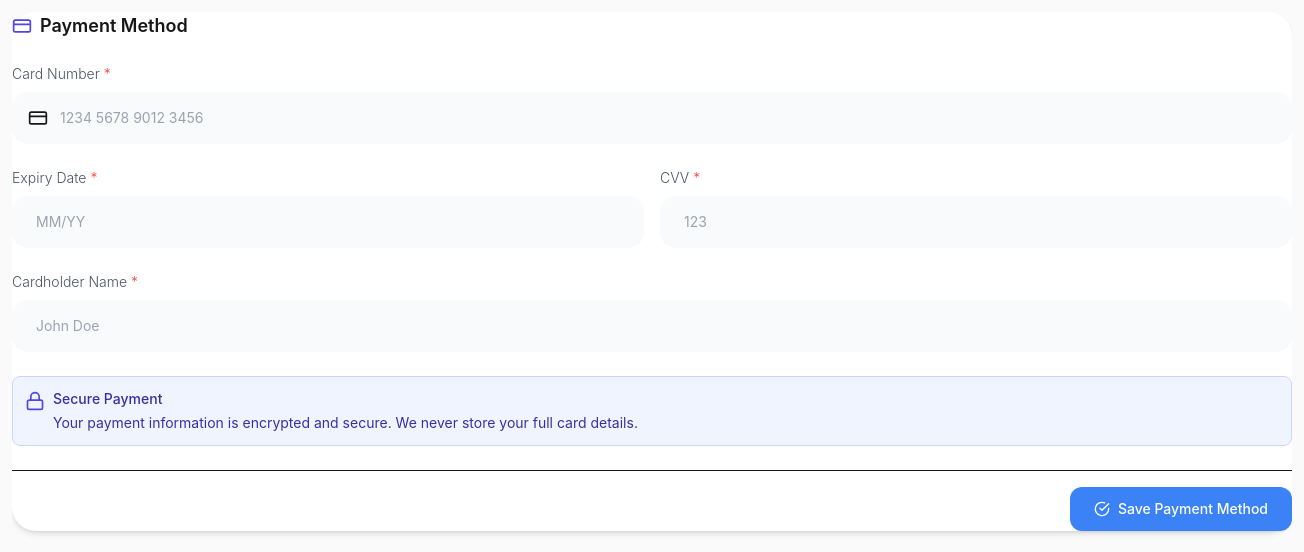
PaymentMethodForm Component › Input Formatting › formats expiry date as MM/YY
Type "1225" into the field labelled "Expiry Date*".
click(328, 222); type("1225")  # box [12, 196, 644, 248]
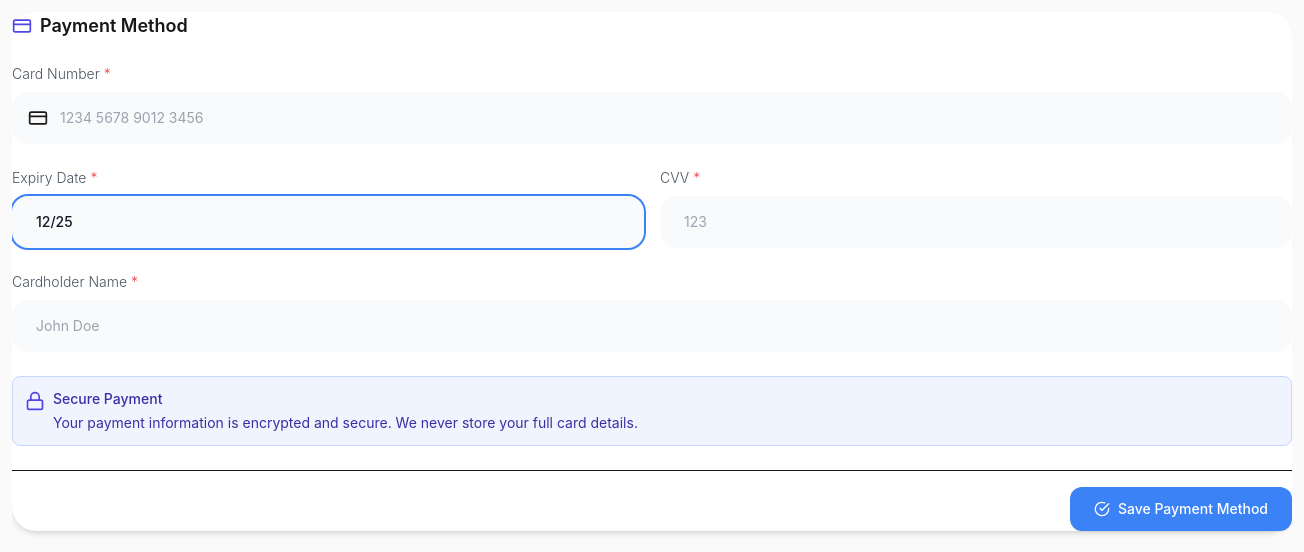
Now the field labelled "Expiry Date*" holds "12/25", box [12, 196, 644, 248]
